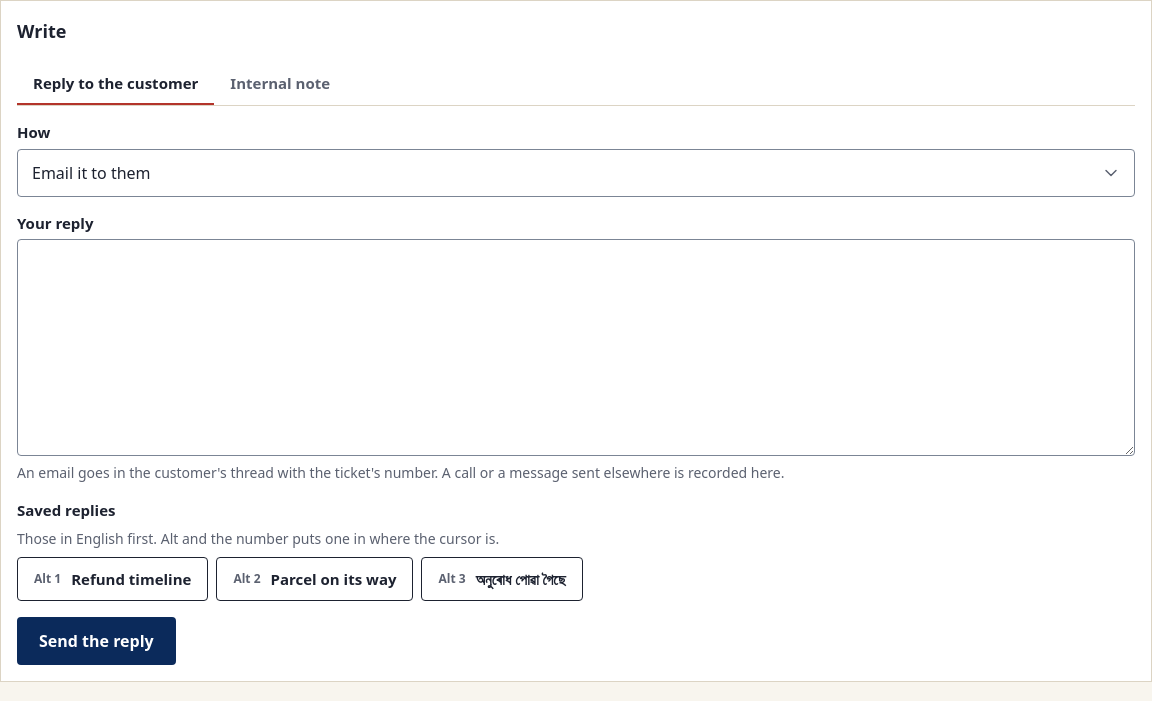
it: Compose › puts the API's words beside the field
Type "Hello." into the text box labelled "Your reply" at [576, 347], box [17,239,1135,456]
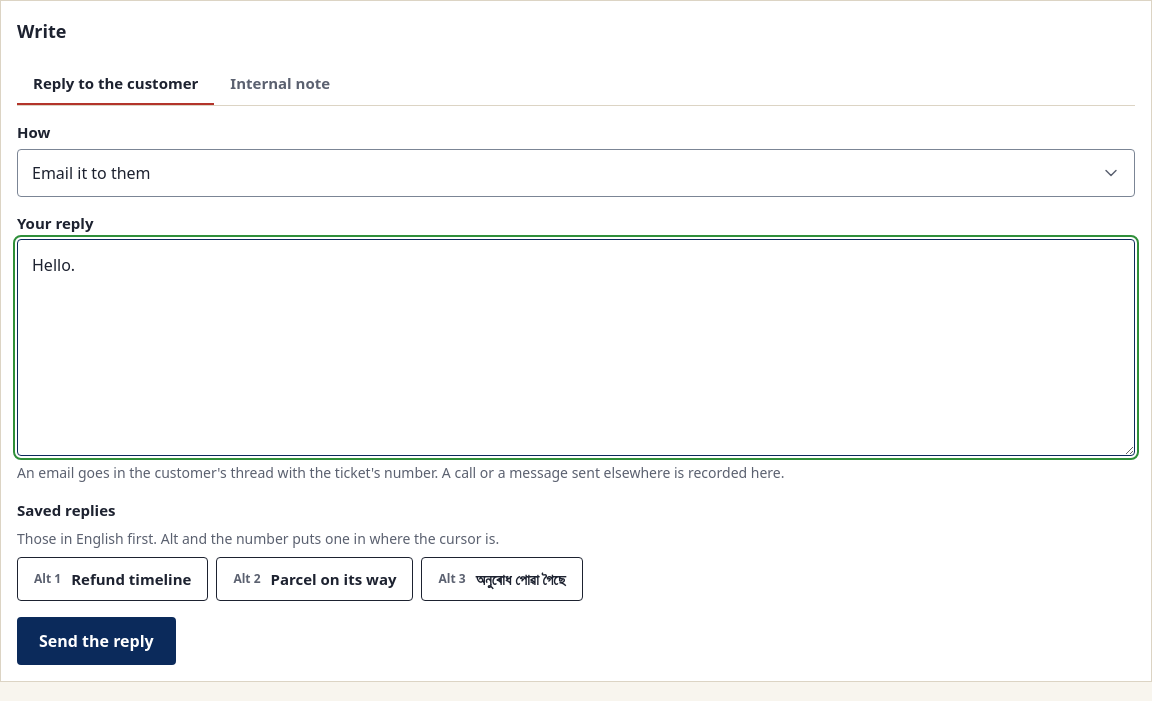
Click the button "Send the reply" at [96, 641], box [17,617,176,665]
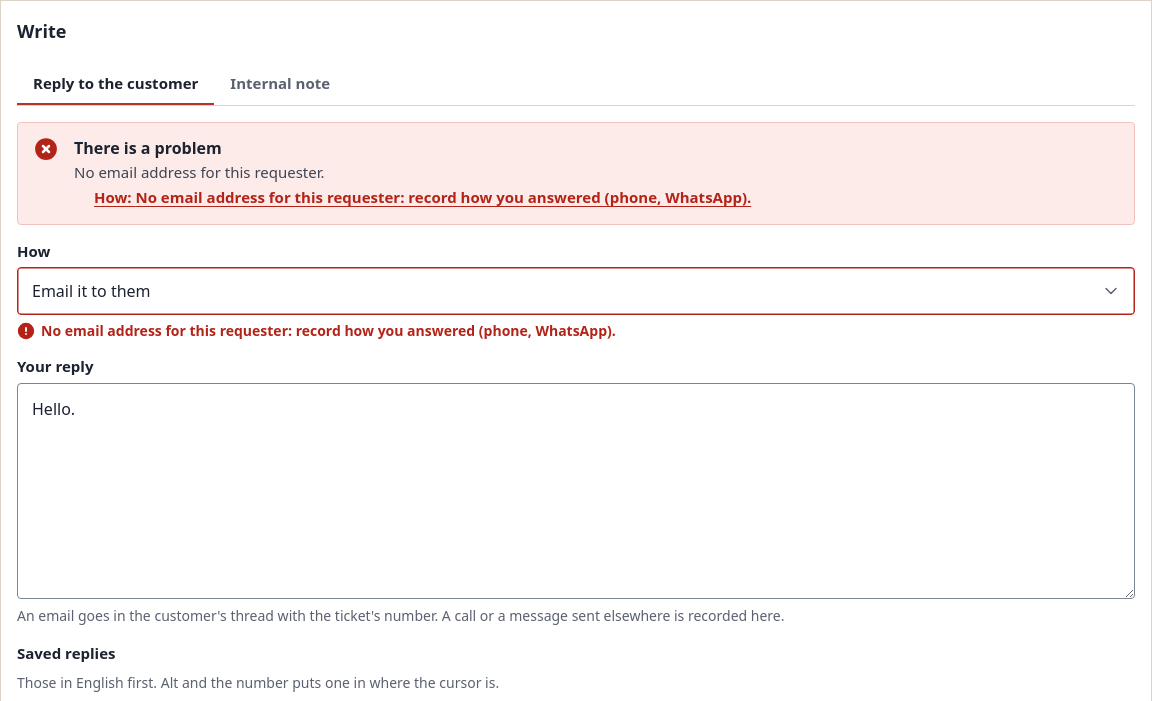
Check: the message shows "How: No email address for this requester", box [17,122,1135,224]
